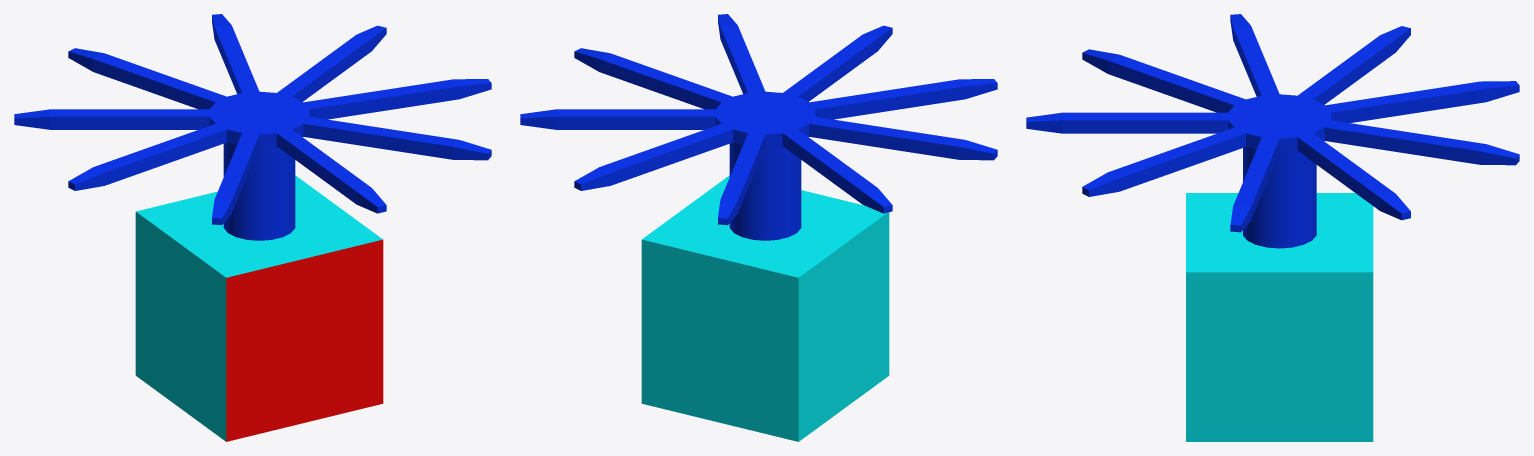
Rendered from Drone.FBX.
3 views of the same model, side by side, from view 1: azimuth 30°, elevation 25°; view 2: azimuth 150°, elevation 25°; view 3: azimuth 270°, elevation 25° (orthographic). The views are drawn at different scales.
Visible parts, largest first — view 1: Box001, Propeller; view 2: Box001, Propeller; view 3: Box001, Propeller.
Boxes of the visible parts, x1,y1,x2,y2 form: Box001: [135, 175, 383, 441]; Propeller: [14, 14, 491, 240]; Box001: [641, 175, 889, 441]; Propeller: [520, 14, 997, 240]; Box001: [1186, 193, 1373, 441]; Propeller: [1026, 14, 1519, 248].
Size of the model in its own units: 66.87 by 42.12 by 65.85.
